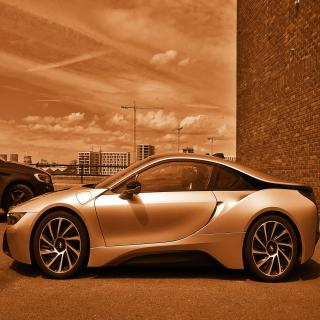Normal_vehicle: (4, 150, 319, 287), (0, 155, 56, 221)
